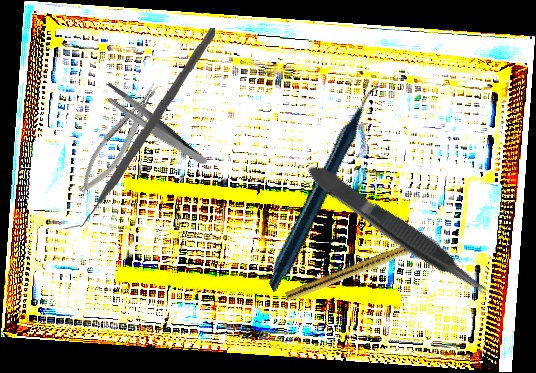Chopper: (62, 23, 216, 234)
Dressing Forceps: (99, 64, 209, 187)
Handpiece: (211, 85, 443, 292), (284, 236, 429, 305)
Needle Holder: (69, 78, 171, 200)
Tissue Forceps: (301, 155, 496, 306)
